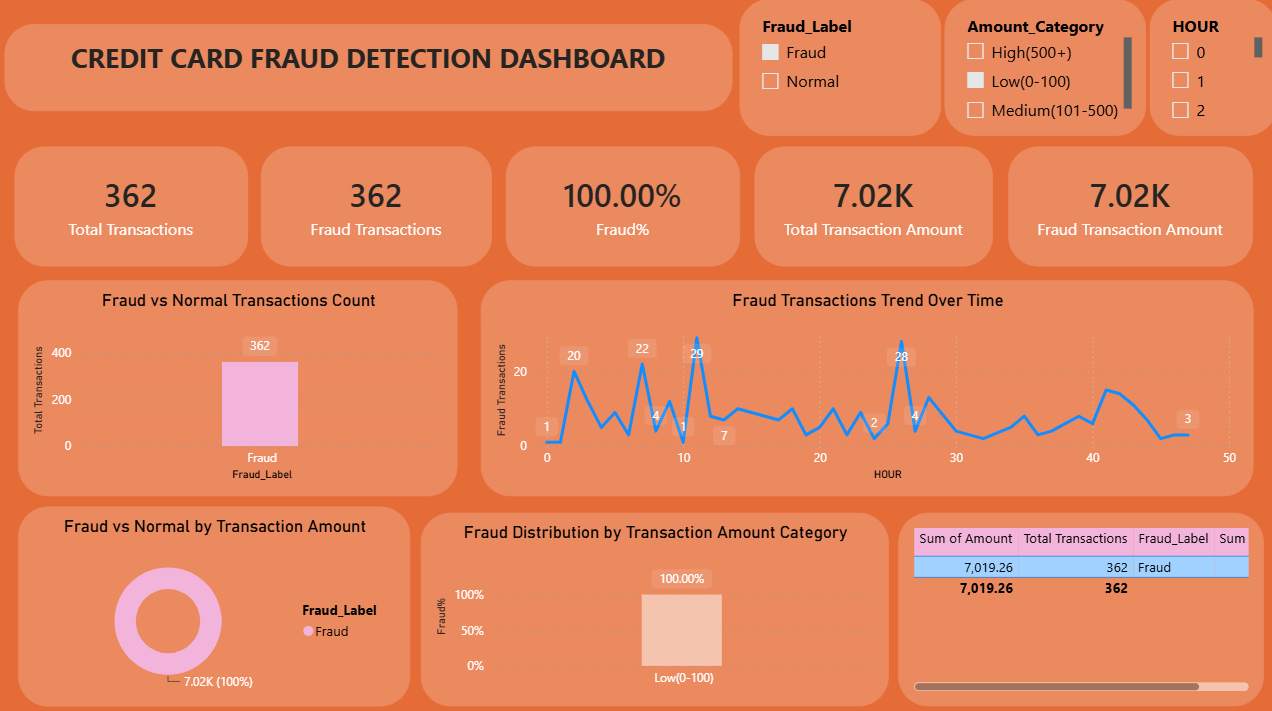

The dashboard page shown, as its layout file describes it:
{"tool":"powerbi","page":{"name":"Page 1","canvas":[1280,720],"ordinal":0},"visuals":[{"type":"cardVisual","fields":{"Data":["creditcard.Total Transactions"]},"box":[17.5,147.4,233.5,119.9],"z":0},{"type":"cardVisual","fields":{"Data":["creditcard.Fraud Transactions"]},"box":[263.5,147.4,231,119.9],"z":1000},{"type":"cardVisual","fields":{"Data":["creditcard.Fraud%"]},"box":[508.3,147.4,234.8,119.9],"z":2000},{"type":"cardVisual","fields":{"Data":["creditcard.Total Transaction Amount"]},"box":[758,147.4,238.5,119.9],"z":3000},{"type":"cardVisual","fields":{"Data":["creditcard.Fraud Transaction Amount"]},"box":[1011.5,147.4,244.8,119.9],"z":4000},{"type":"clusteredColumnChart","title":"Fraud vs Normal Transactions Count","fields":{"Category":["creditcard.Fraud_Label"],"Y":["creditcard.Total Transactions"]},"box":[21.2,281,439.6,216],"z":5000},{"type":"donutChart","title":"Fraud vs Normal by Transaction Amount","fields":{"Category":["creditcard.Fraud_Label"],"Y":["Sum(creditcard.Amount)"]},"box":[21.2,507,392.1,199.8],"z":6000},{"type":"lineChart","title":"Fraud Transactions Trend Over Time","fields":{"Category":["creditcard.HOUR"],"Y":["creditcard.Fraud Transactions"]},"box":[483.3,281,773,216],"z":7000},{"type":"columnChart","title":"Fraud Distribution by Transaction Amount Category","fields":{"Category":["creditcard.Amount_Category"],"Y":["creditcard.Fraud%"]},"box":[423.3,513.2,468.3,193.6],"z":8000},{"type":"tableEx","fields":{"Values":["Sum(creditcard.Amount)","creditcard.Total Transactions","creditcard.Fraud_Label","Sum(creditcard.HOUR)"]},"box":[901.6,513.2,365.9,193.6],"z":9000},{"type":"textbox","box":[7.5,25,727.6,87.1],"z":10000},{"type":"slicer","fields":{"Values":["creditcard.Fraud_Label"]},"box":[743,0,201.7,136.5],"z":11000},{"type":"slicer","fields":{"Values":["creditcard.Amount_Category"]},"box":[947.7,0,201.7,136.5],"z":12000},{"type":"slicer","fields":{"Values":["creditcard.HOUR"]},"box":[1152.4,0,127.4,136.5],"z":13000}]}

Visuals, with their boxes in screenshot pixels (x1, y1, x2, y2), scaled from the page's 1280x720 canvas onto the 1272x711 screenshot:
cardVisual - creditcard.Total Transactions: box=[17, 146, 249, 264]
cardVisual - creditcard.Fraud Transactions: box=[262, 146, 491, 264]
cardVisual - creditcard.Fraud%: box=[505, 146, 738, 264]
cardVisual - creditcard.Total Transaction Amount: box=[753, 146, 990, 264]
cardVisual - creditcard.Fraud Transaction Amount: box=[1005, 146, 1248, 264]
"Fraud vs Normal Transactions Count" clusteredColumnChart: box=[21, 277, 458, 491]
"Fraud vs Normal by Transaction Amount" donutChart: box=[21, 501, 411, 698]
"Fraud Transactions Trend Over Time" lineChart: box=[480, 277, 1248, 491]
"Fraud Distribution by Transaction Amount Category" columnChart: box=[421, 507, 886, 698]
tableEx - Sum(creditcard.Amount) x creditcard.Total Transactions: box=[896, 507, 1260, 698]
textbox: box=[7, 25, 731, 111]
slicer - creditcard.Fraud_Label: box=[738, 0, 939, 135]
slicer - creditcard.Amount_Category: box=[942, 0, 1142, 135]
slicer - creditcard.HOUR: box=[1145, 0, 1271, 135]
